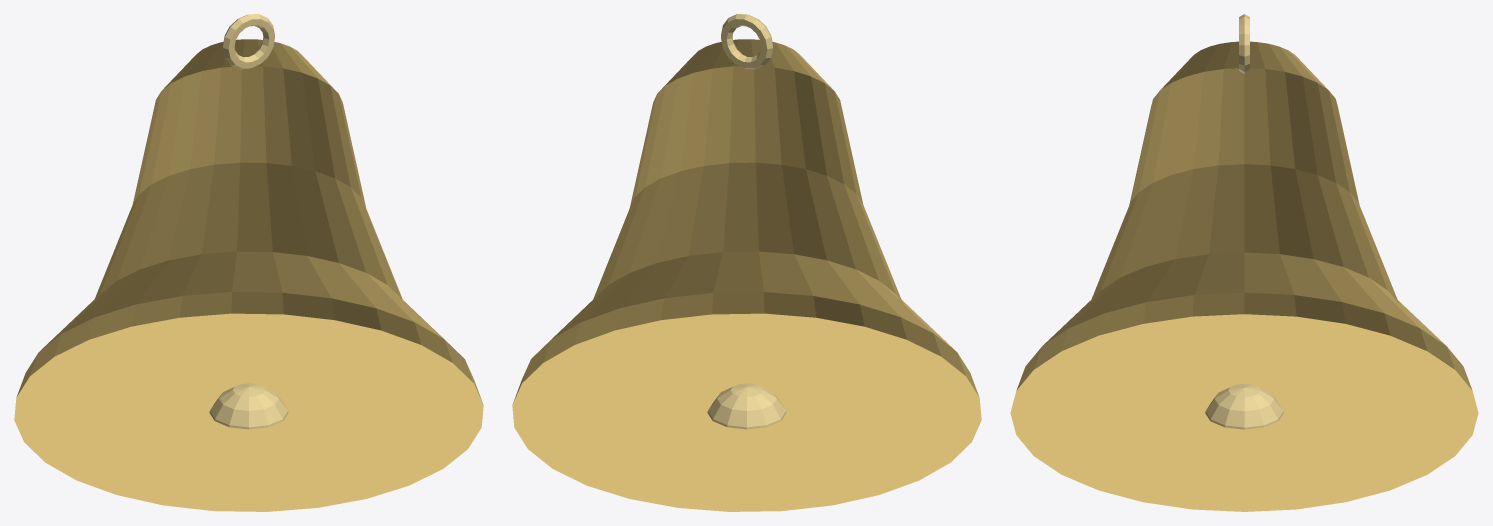
The model's file is bell-gold-3_5in.glb.
3 views of the same model, side by side, from view 1: azimuth 30°, elevation 25°; view 2: azimuth 150°, elevation 25°; view 3: azimuth 270°, elevation 25° (orthographic).
Parts seen in each view (by area): view 1: bell; view 2: bell; view 3: bell.
Part boxes in pixels (bbox=[...]): bell: bbox=[14, 14, 483, 511]; bell: bbox=[512, 14, 981, 511]; bell: bbox=[1010, 14, 1478, 511].
Size of the model in its own units: 0.0843 by 0.0889 by 0.0843.
